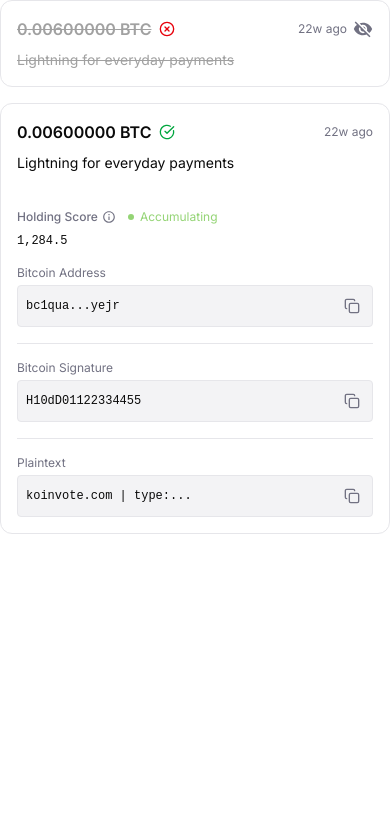
Test: voided reply card › links to the current reply instead of repeating the address's score
Click the 1st button.
click(363, 29)  # box [353, 19, 373, 39]
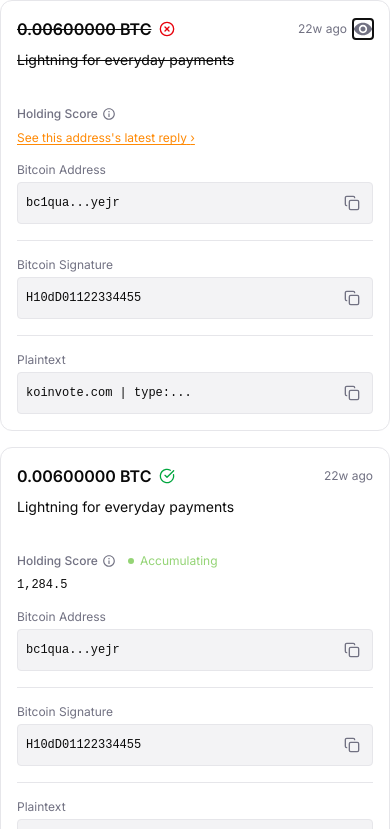
Check: the button "See this address's latest reply ›" is shown, box [17, 130, 195, 146]
Check: the text "Holding Score" is shown, box [17, 106, 116, 122]
